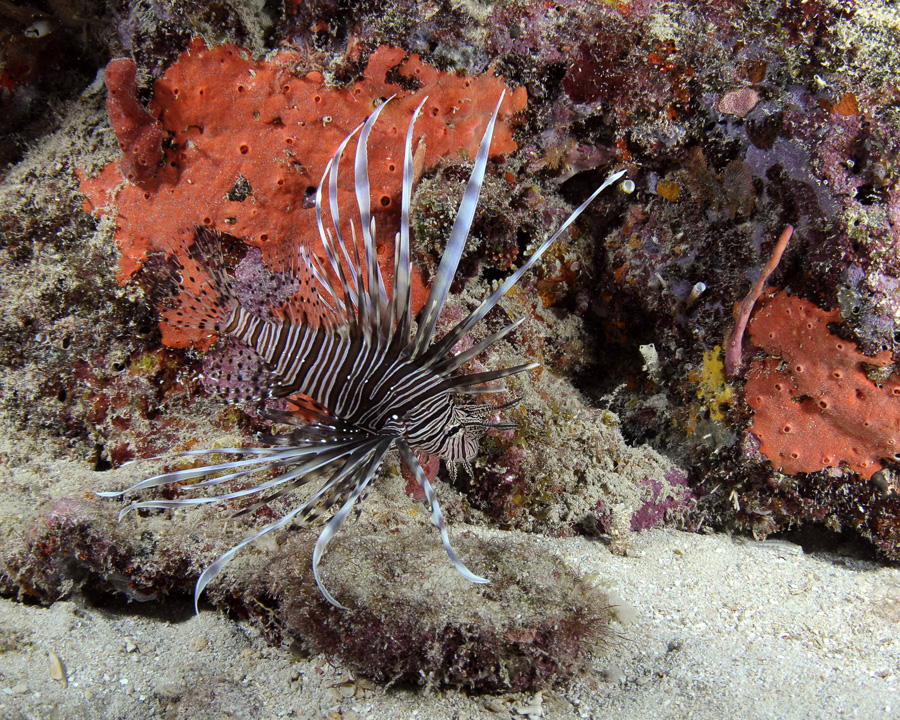Pterois_volitans: (115, 106, 576, 607)
